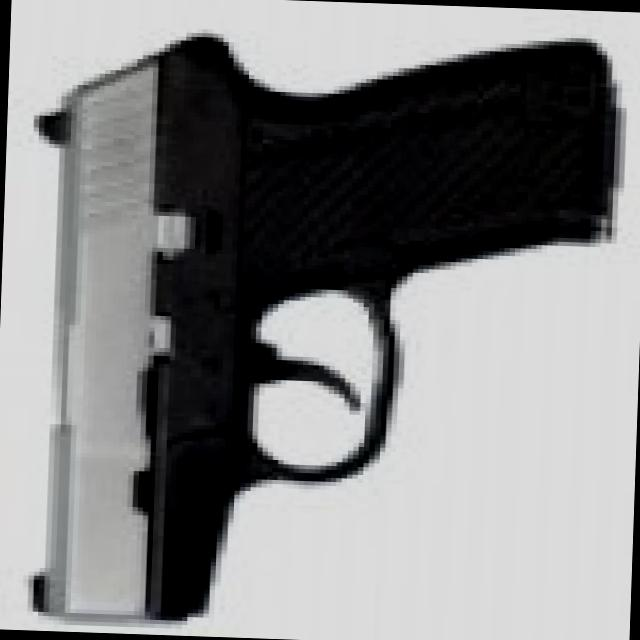handgun: (11, 25, 607, 638)
